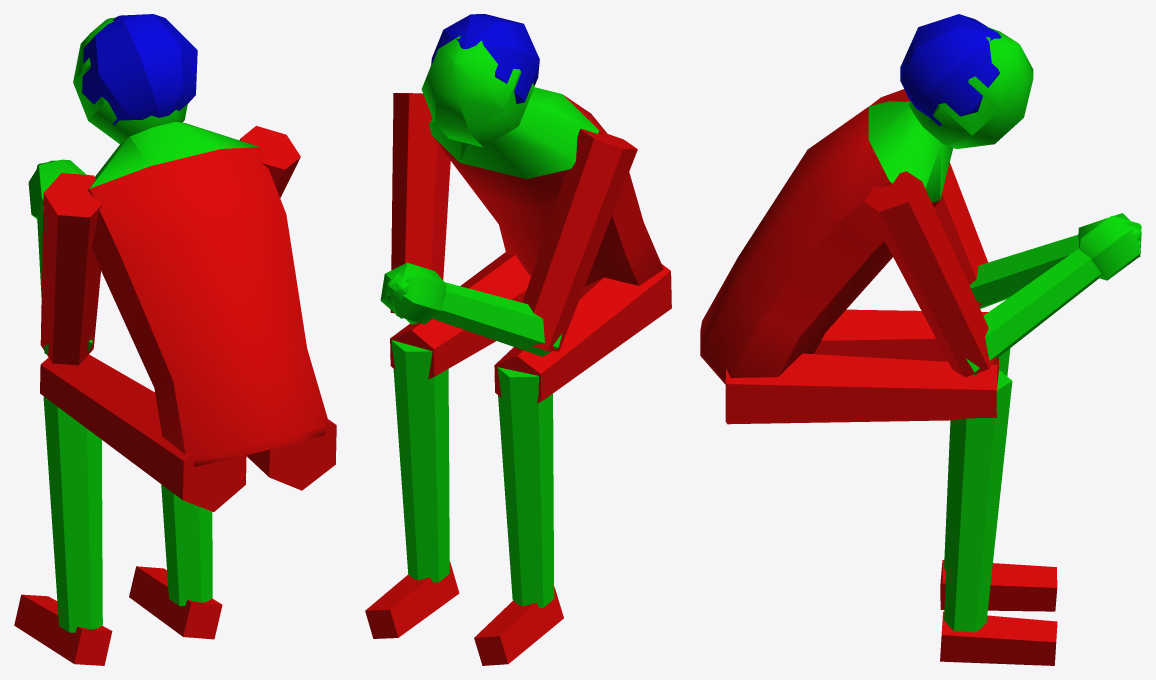
Rendered from sit_lean.glb.
The picture shows the model from 3 angles, left to right: view 1: azimuth 30°, elevation 25°; view 2: azimuth 150°, elevation 25°; view 3: azimuth 270°, elevation 25°; orthographic projection. The views are drawn at different scales.
Visible parts, largest first — view 1: OUT; view 2: OUT; view 3: OUT.
Part boxes in pixels (bbox=[...]): OUT: bbox=[14, 14, 336, 665]; OUT: bbox=[365, 14, 671, 665]; OUT: bbox=[700, 14, 1141, 665].
Size of the model in its own units: 0.4864 by 1.21 by 0.7908.
